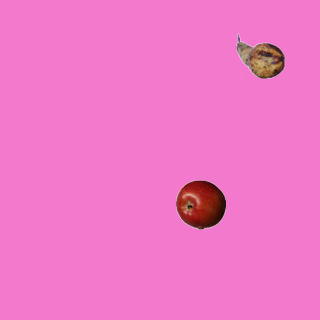Apple Braeburn: (175, 179, 225, 229)
Pear Abate: (235, 31, 285, 81)
